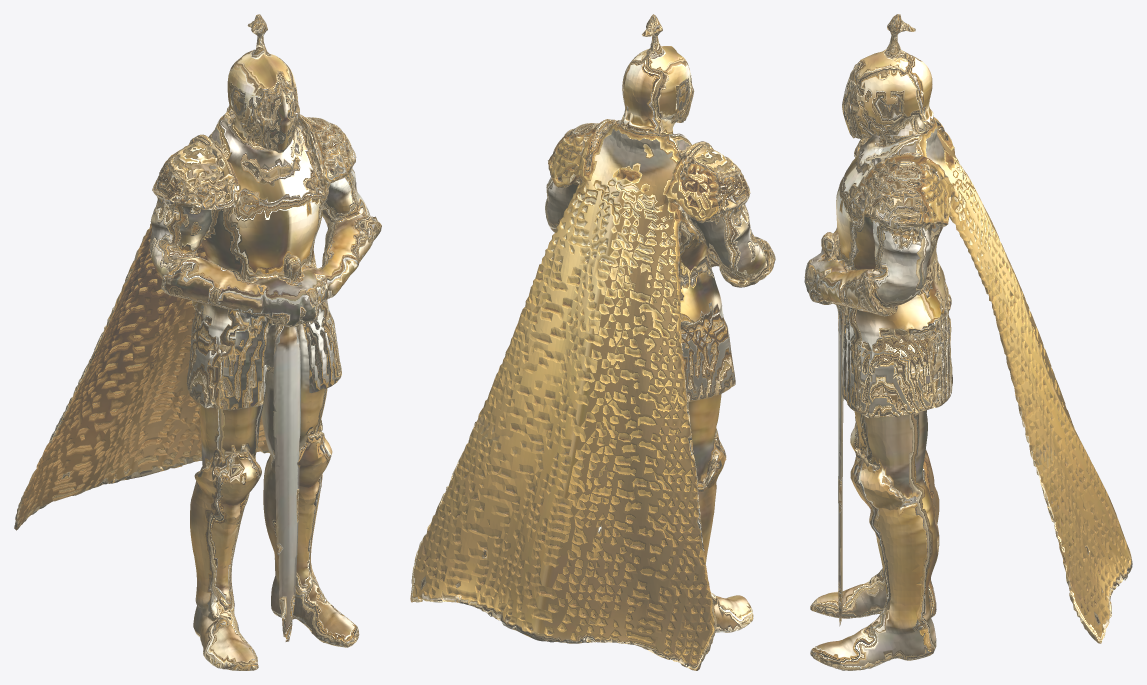
The model's file is klasik_n_w.glb.
3 renders of one model, left to right at view 1: azimuth 30°, elevation 25°; view 2: azimuth 150°, elevation 25°; view 3: azimuth 270°, elevation 25°, orthographic.
Parts seen in each view (by area): view 1: at; view 2: at; view 3: at.
Boxes of the visible parts, bbox=[...] form: at: bbox=[14, 14, 381, 670]; at: bbox=[410, 14, 775, 670]; at: bbox=[804, 14, 1132, 670].
Bounding box in the file's own units: 0.1295 × 0.2534 × 0.1207.
1 material, 1 textured.
